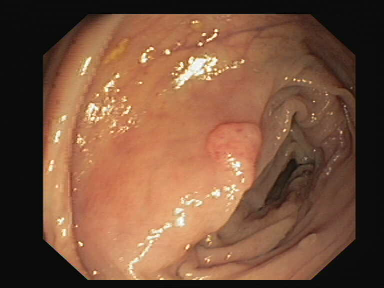polyp: (198, 109, 272, 182)
